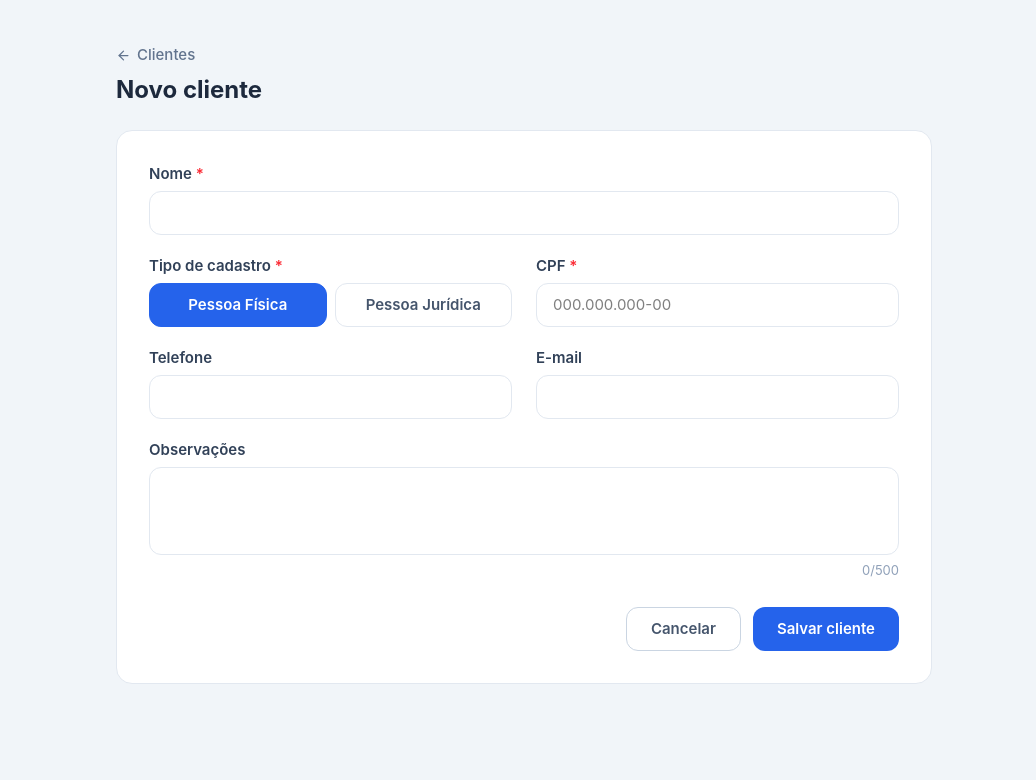
Scenario: cadastro de cliente › aplica as máscaras, envia só o documento do tipo escolhido e volta à lista
Type "Ana Lima" into the field below "Nome" at (524, 213), box [149, 191, 899, 235]
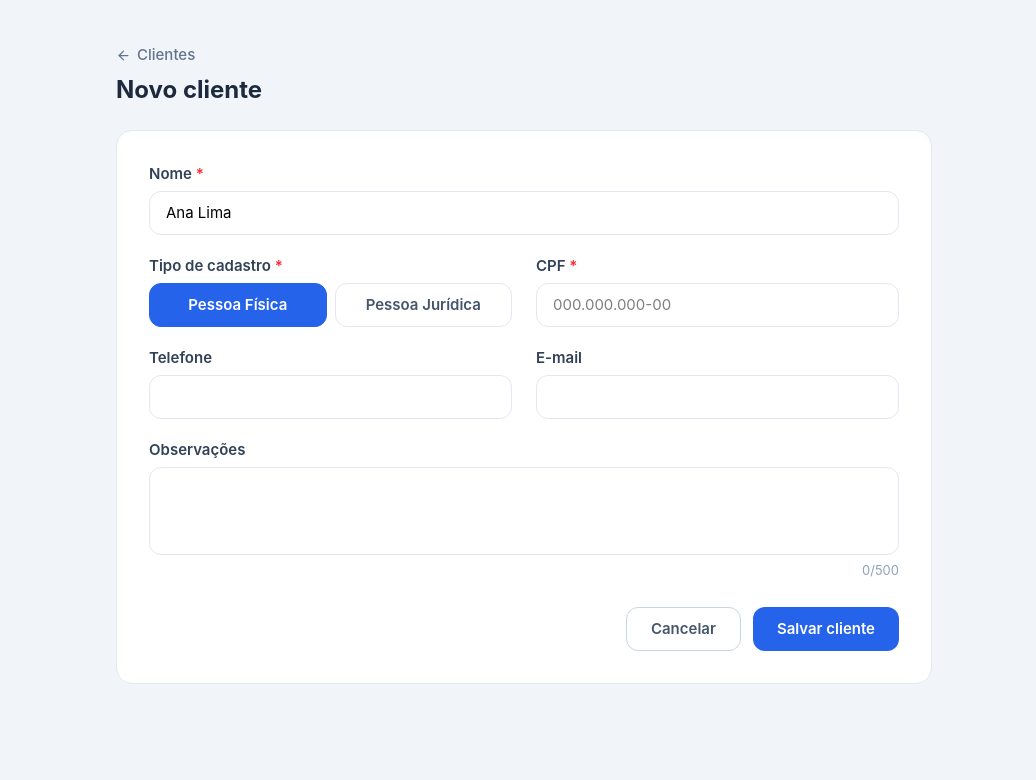
Type "12357615923" into the field with placeholder "000.000.000-00" at (718, 305), box [536, 283, 899, 327]
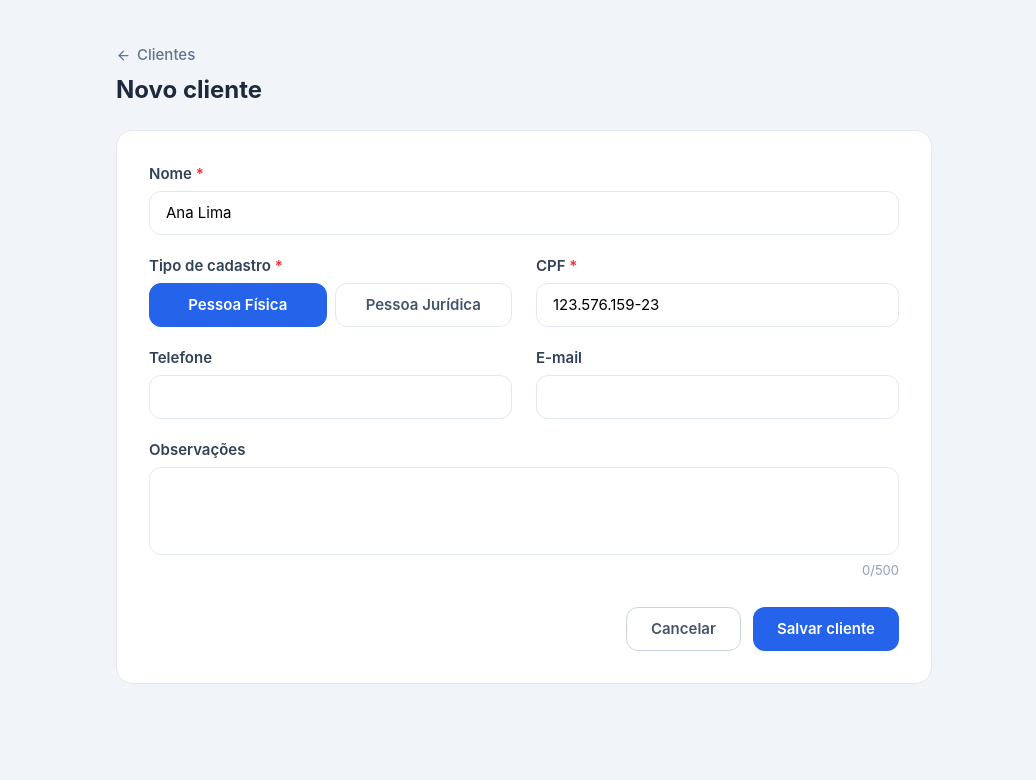
Type "43996105977" into the field below "Telefone" at (330, 397), box [149, 375, 512, 419]
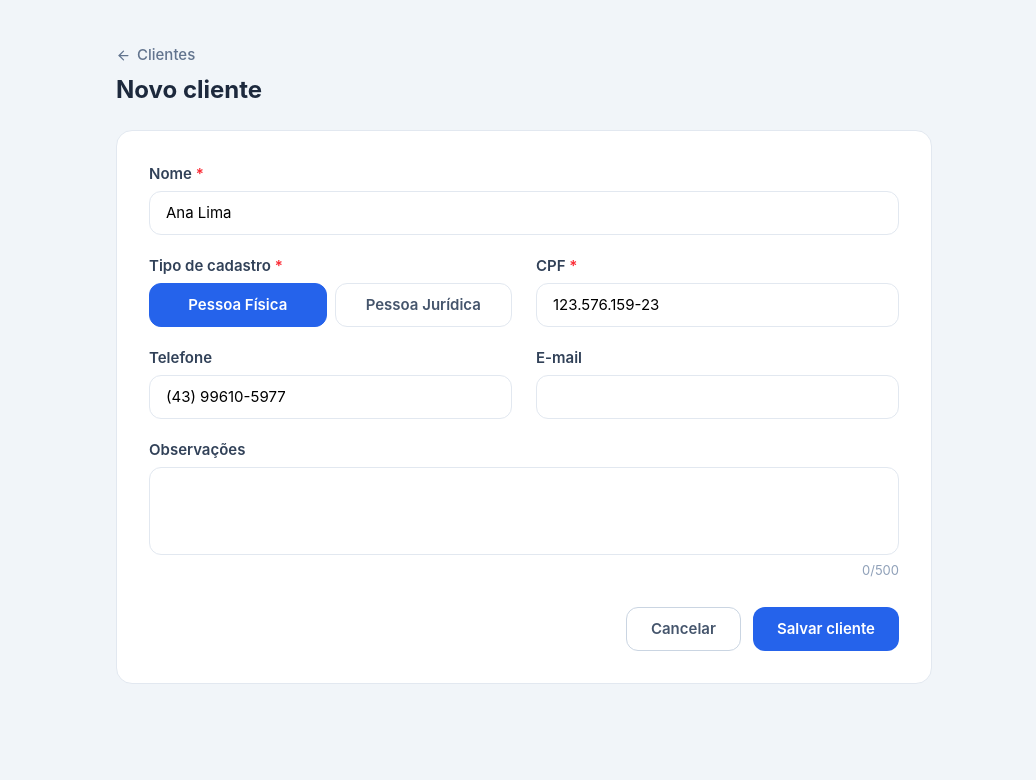
Click the button "Salvar cliente" at (826, 629), box [753, 607, 899, 651]
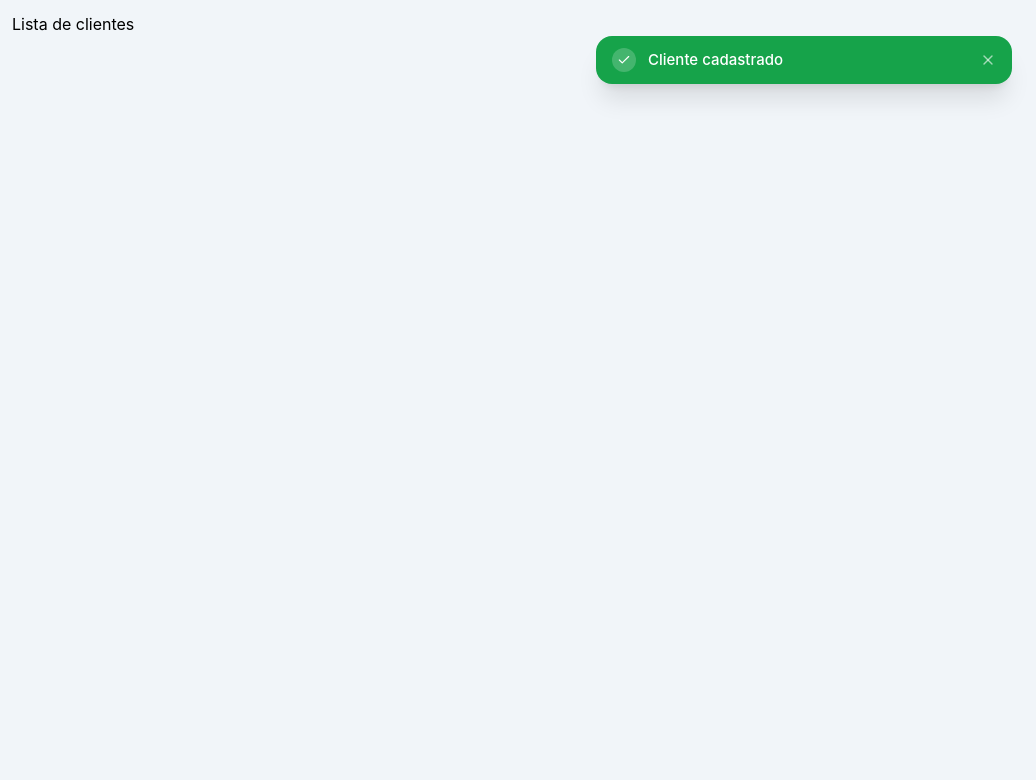
Expected: the text "Lista de clientes" is shown, [12, 14, 134, 34]
